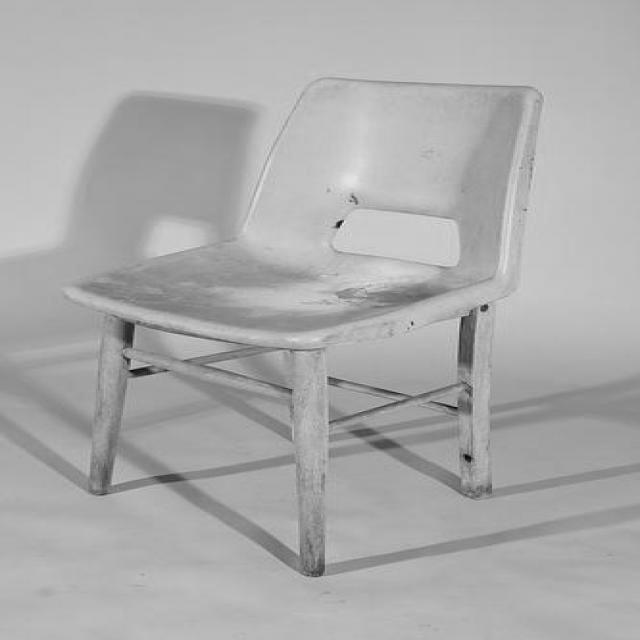chair: (61, 82, 555, 577)
